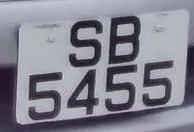4: (62, 62, 107, 120)
5: (23, 67, 68, 123), (100, 61, 143, 115), (135, 57, 177, 111)
B: (106, 11, 145, 67)
S: (60, 12, 108, 71)
